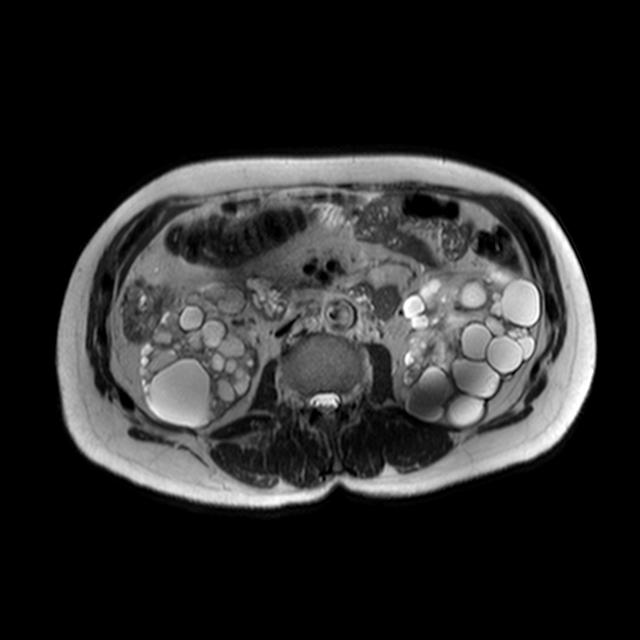sag: (137, 279, 262, 435)
sol: (400, 263, 542, 427)
